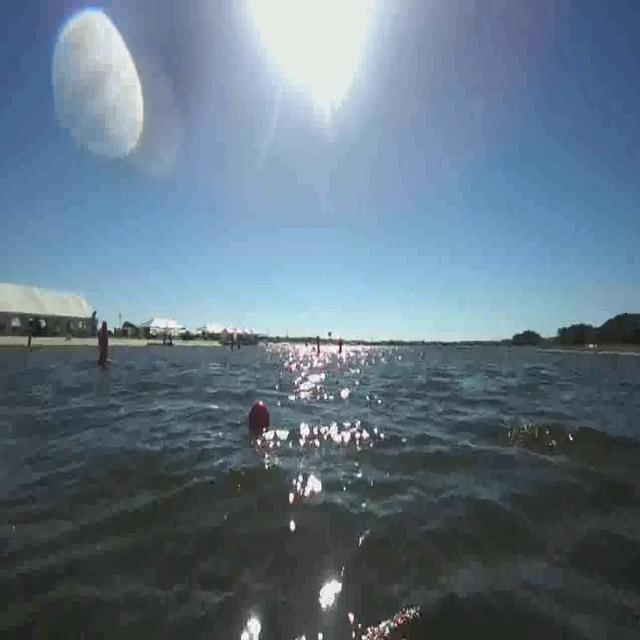red-buoy: (248, 398, 271, 433)
red-column-buoy: (95, 319, 113, 367)
